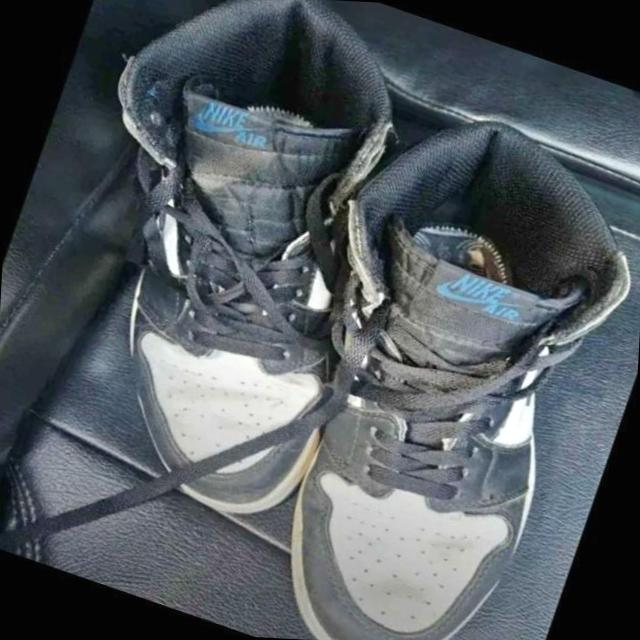nike_fake_jordan: (0, 0, 463, 545), (205, 78, 640, 640)
